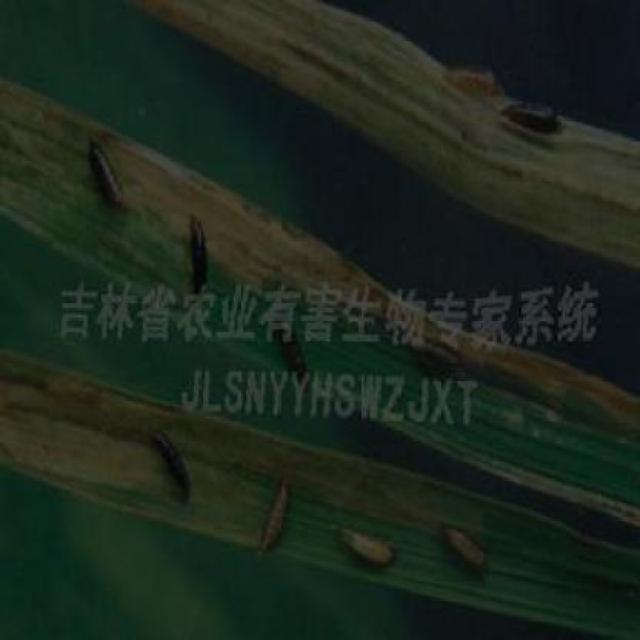whorl-maggot: (499, 81, 576, 150), (251, 457, 298, 568), (83, 130, 134, 225), (144, 423, 198, 511), (333, 514, 404, 578), (438, 507, 492, 581), (178, 199, 216, 278), (442, 56, 501, 102)
